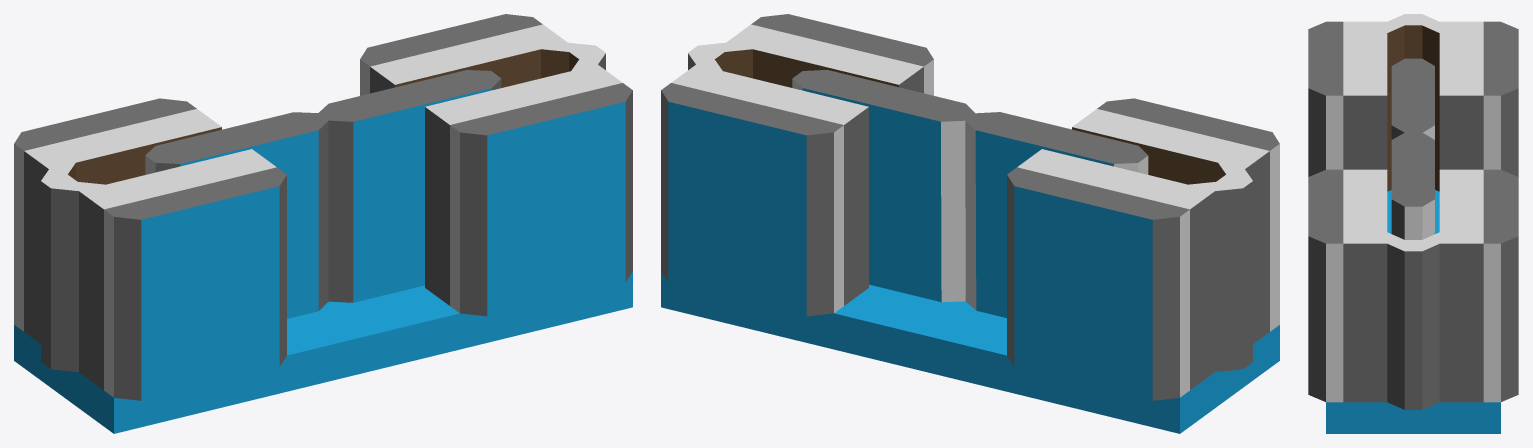
The model's file is body.fbx.
3 views of the same model, side by side, from view 1: azimuth 30°, elevation 25°; view 2: azimuth 150°, elevation 25°; view 3: azimuth 270°, elevation 25° (orthographic). The views are drawn at different scales.
Visible parts, largest first — view 1: Wall.002, Wall.003, Door2, Door1, Ground.001, InneWall.002, InneWall.001, InneWall.003, Ground, SideWall, InneWall, Wall (+3 smaller); view 2: Wall.001, Wall, Door2, Door1, Ground.001, InneWall.003, InneWall, InneWall.002, Ground, SideWall, InneWall.001, Wall.003 (+3 smaller); view 3: InneWall, InneWall.001, SideWall.001, Wall.001, Wall.002, InneWall.002, InneWall.003, Wall.003, Wall, Ground.002, Door2, SideWall (+2 smaller).
Part boxes in pixels (x1=…): Wall.002: x1=450, y1=83, x2=632, y2=316; Wall.003: x1=104, y1=167, x2=286, y2=400; Door2: x1=318, y1=70, x2=501, y2=302; Door1: x1=145, y1=112, x2=328, y2=318; Ground.001: x1=287, y1=286, x2=459, y2=391; InneWall.002: x1=24, y1=109, x2=221, y2=343; InneWall.001: x1=425, y1=64, x2=622, y2=305; InneWall.003: x1=79, y1=149, x2=276, y2=389; Ground: x1=14, y1=325, x2=286, y2=433; SideWall: x1=41, y1=163, x2=104, y2=371; InneWall: x1=370, y1=24, x2=567, y2=93; Wall: x1=14, y1=98, x2=196, y2=331; Wall.001: x1=661, y1=83, x2=843, y2=316; Wall: x1=1007, y1=167, x2=1189, y2=400; Door2: x1=792, y1=70, x2=975, y2=302; Door1: x1=965, y1=112, x2=1148, y2=317; Ground.001: x1=834, y1=285, x2=1006, y2=391; InneWall.003: x1=1072, y1=109, x2=1269, y2=343; InneWall: x1=671, y1=64, x2=868, y2=305; InneWall.002: x1=1017, y1=149, x2=1214, y2=389; Ground: x1=1007, y1=325, x2=1279, y2=433; SideWall: x1=1189, y1=163, x2=1252, y2=371; InneWall.001: x1=726, y1=24, x2=923, y2=93; Wall.003: x1=1097, y1=98, x2=1279, y2=331; InneWall: x1=1439, y1=169, x2=1483, y2=402; InneWall.001: x1=1343, y1=169, x2=1387, y2=402; SideWall.001: x1=1387, y1=232, x2=1439, y2=409; Wall.001: x1=1483, y1=169, x2=1518, y2=402; Wall.002: x1=1308, y1=169, x2=1343, y2=402; InneWall.002: x1=1439, y1=21, x2=1483, y2=169; InneWall.003: x1=1343, y1=21, x2=1387, y2=169; Wall.003: x1=1308, y1=21, x2=1343, y2=176; Wall: x1=1483, y1=21, x2=1518, y2=176; Ground.002: x1=1326, y1=402, x2=1500, y2=433; Door2: x1=1391, y1=132, x2=1434, y2=239; SideWall: x1=1387, y1=14, x2=1439, y2=191.
Size of the model in its own units: 240 by 240 by 642.
